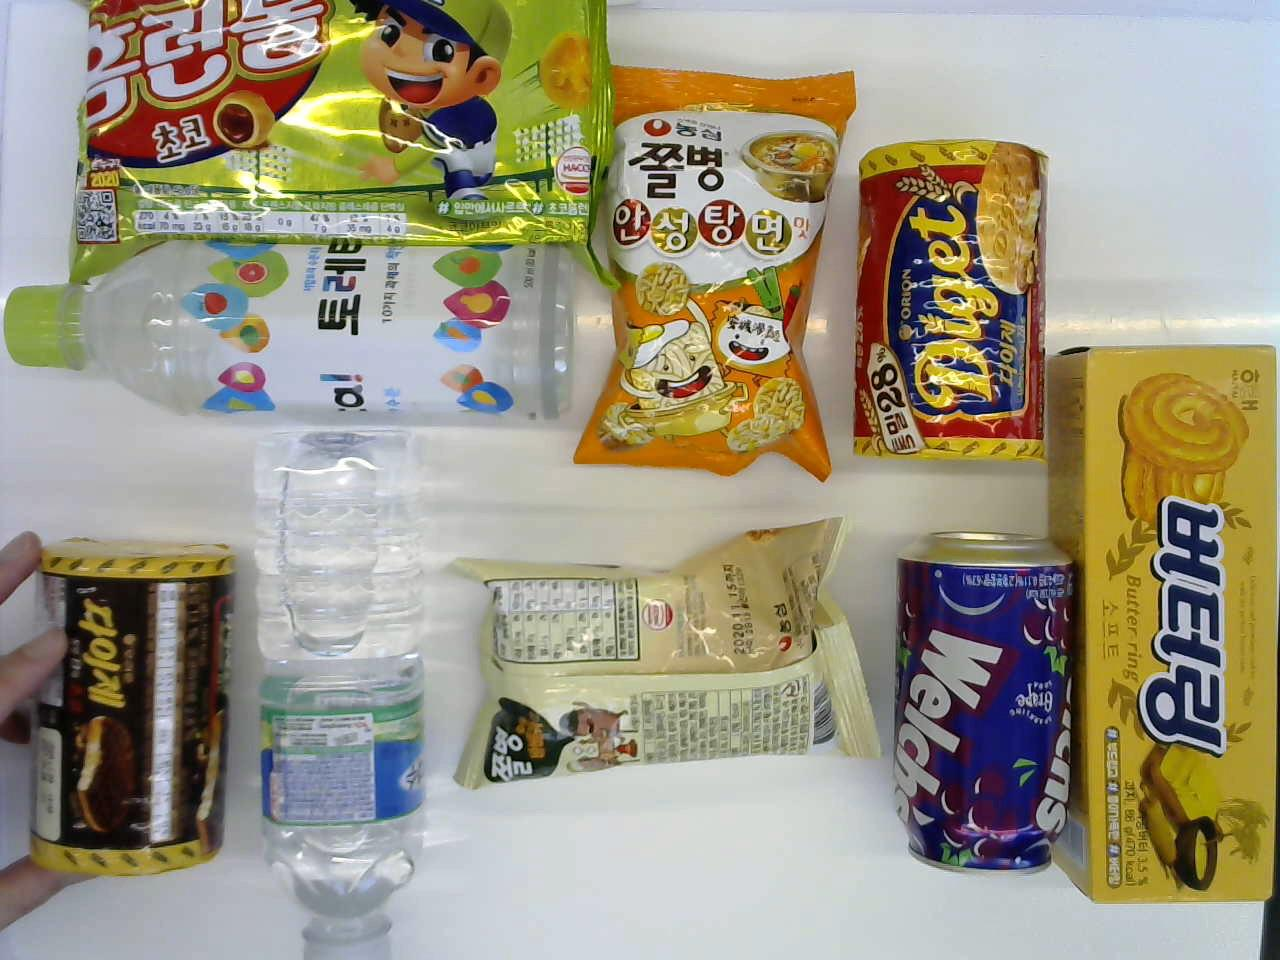buttering: (1051, 333, 1274, 919)
diget_choco: (24, 527, 229, 879)
diget_ori: (853, 135, 1055, 464)
homerunball: (67, 0, 602, 268)
jjolbyung_noodle: (577, 59, 876, 473)
jjolbyung_ori: (459, 516, 864, 793)
samdasu: (245, 428, 446, 955)
toreta: (7, 246, 588, 433)
welchs: (893, 528, 1080, 873)
